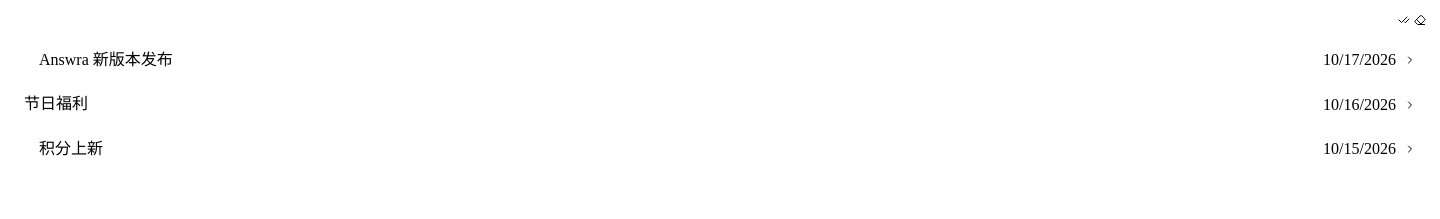
Scenario: AnnouncementList › surfaces a failed mark-all instead of clearing unread progress
Click the button named "全部标为已读" at (1404, 20), box [1398,14,1410,26]
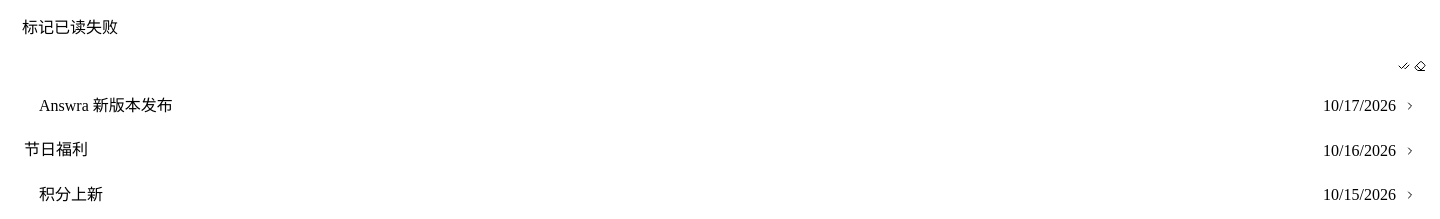
Expected: the button "Answra 新版本发布 10/17/2026" is shown, [16,84,1424,128]
Expected: the message reads "标记已读失败", [22,19,118,36]
